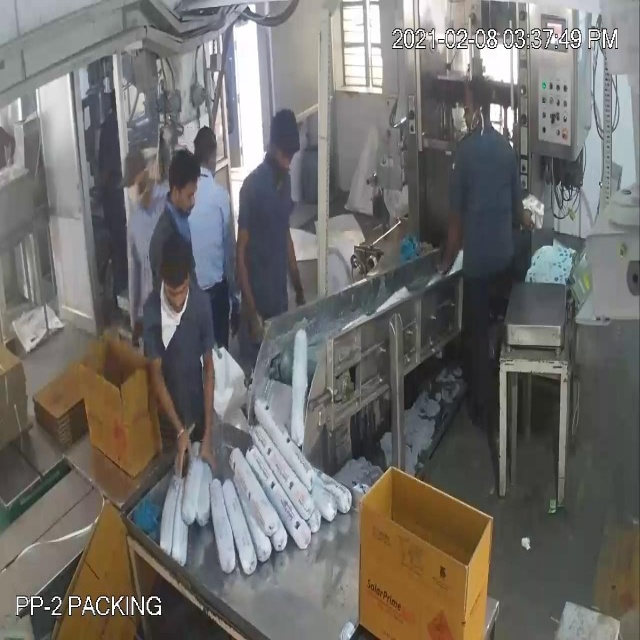Sin_guantes: (146, 349, 197, 495), (190, 340, 232, 491), (235, 225, 268, 339), (281, 213, 312, 305)
